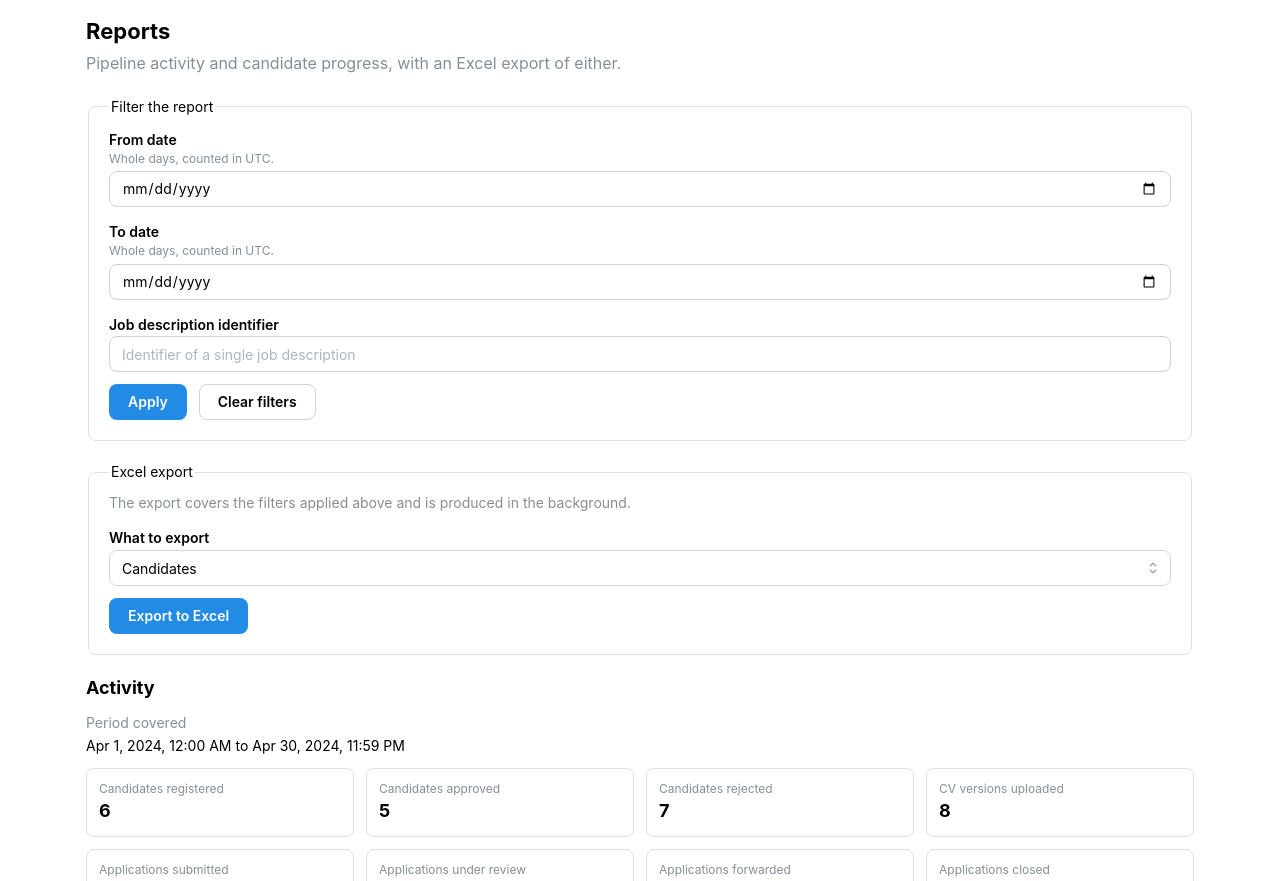
the export lifecycle (Req 18 AC6, AC7, AC8, AC10) › stops polling when the user dismisses the export
Click the button with test id "export-request". click: x=179, y=616
box: [109,598,248,634]
Wait 5000 ms
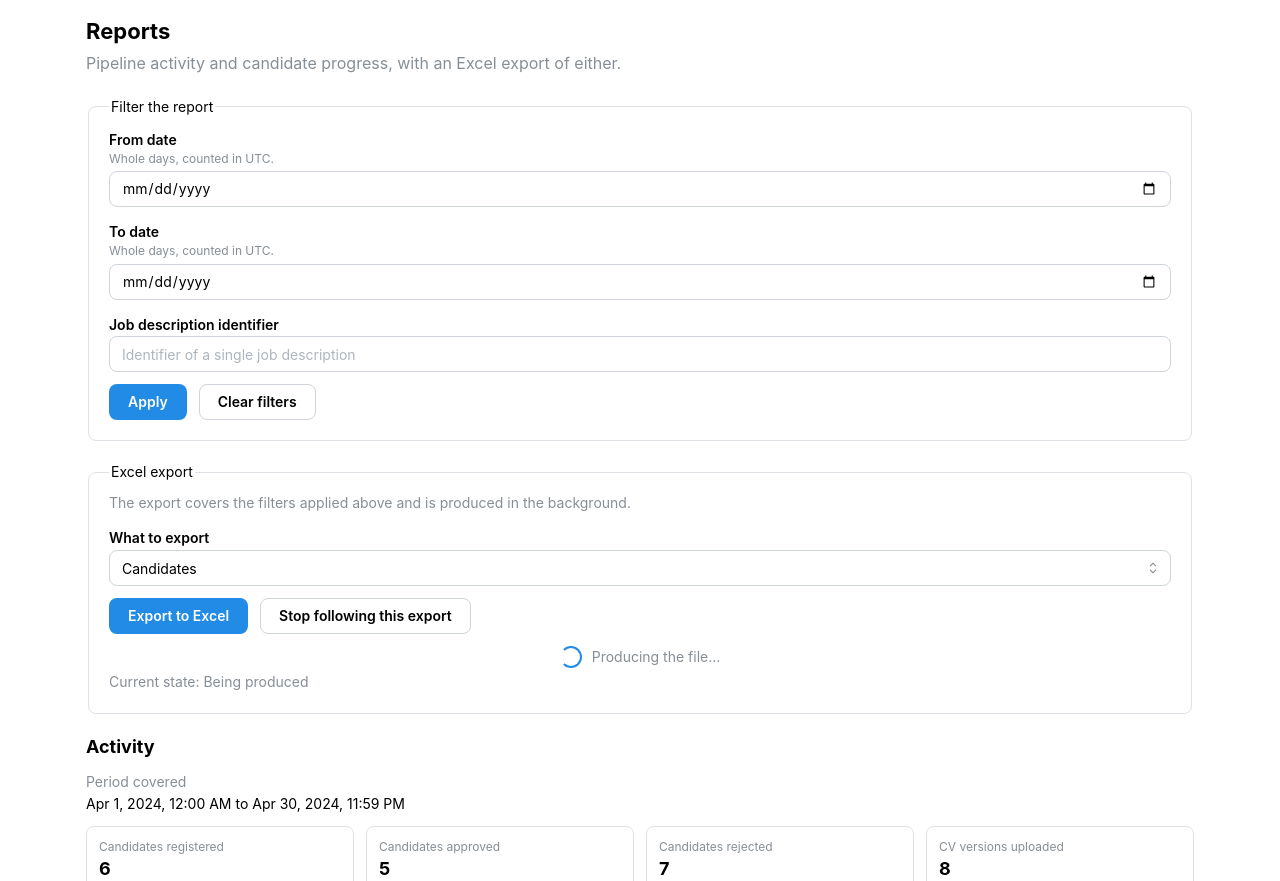
Result: the element with test id "export-polling" is shown at [109,646,720,690]
Click the button with test id "export-dismiss". click: x=365, y=616
box: [260,598,471,634]
Wait 20000 ms
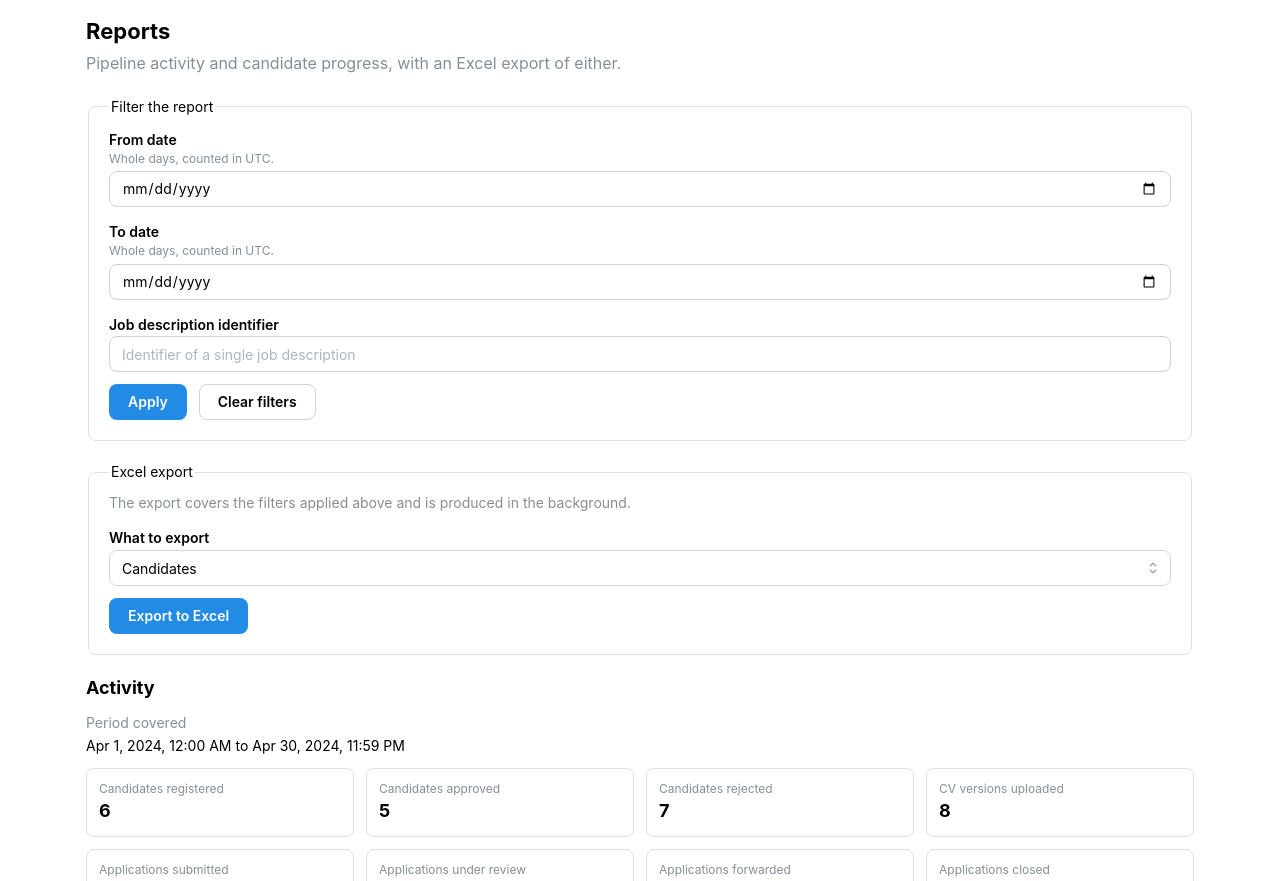
Result: the element with test id "export-polling" is gone
